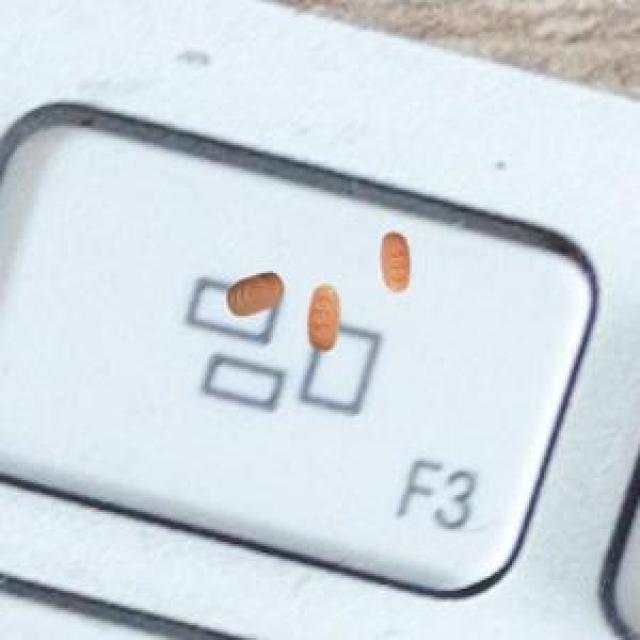Biogesic: (214, 260, 294, 331), (366, 224, 431, 306), (304, 275, 345, 362)
